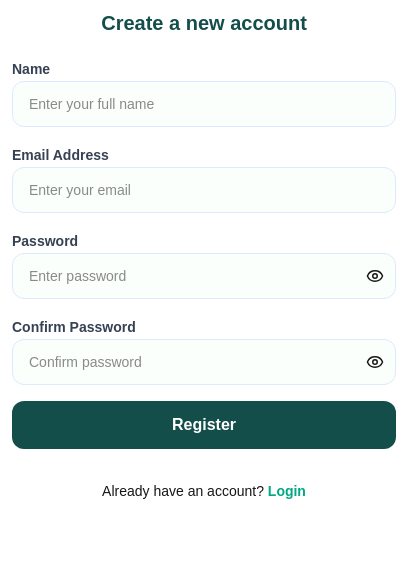
it: RegisterForm › shows error on mismatched passwords
Step 1. Type "abc12345" into the password field labelled "Password" → (204, 276), box [12,253,396,299]
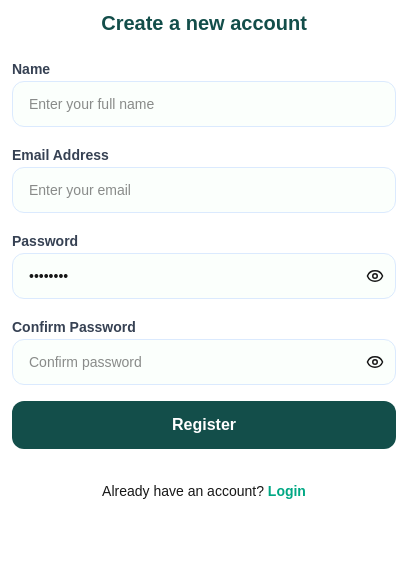
Step 2. Type "different" into the password field labelled "Confirm Password" → (204, 362), box [12,339,396,385]
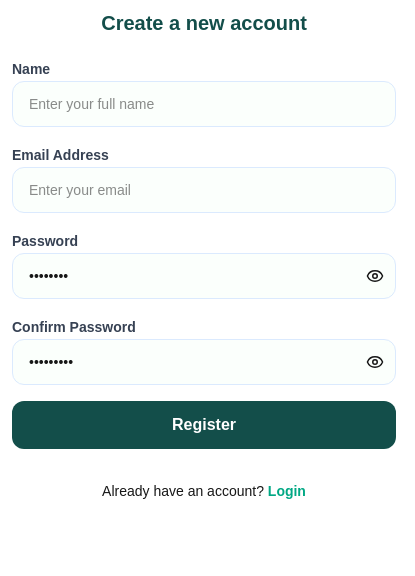
Step 3. Click the button "Register" → (204, 425), box [12,401,396,449]
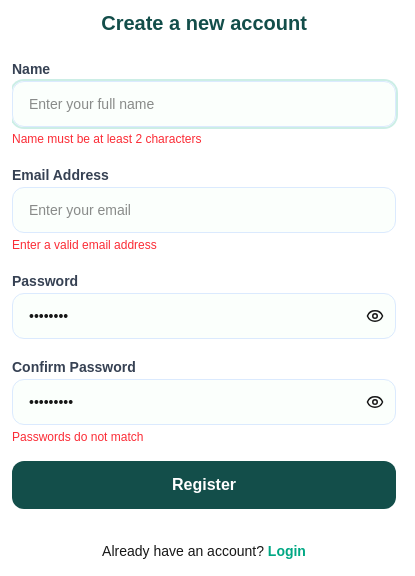
Check: the text "Passwords do not match" is shown, box [12,430,143,444]
